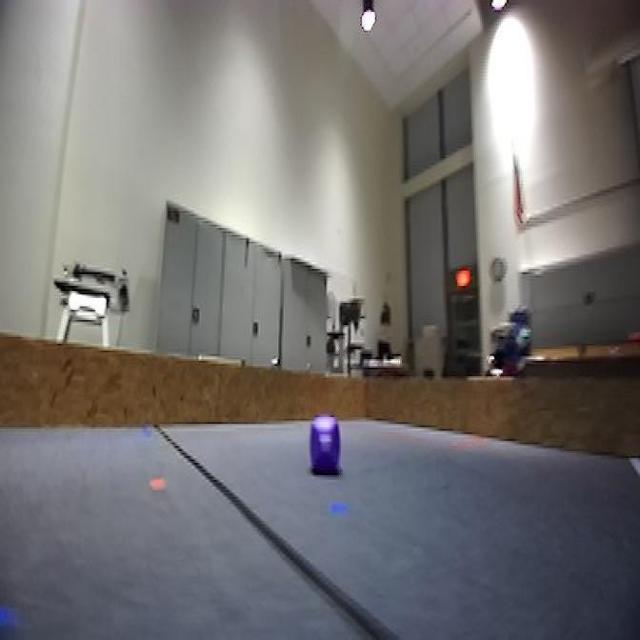frc_cube: (308, 418, 344, 476)
